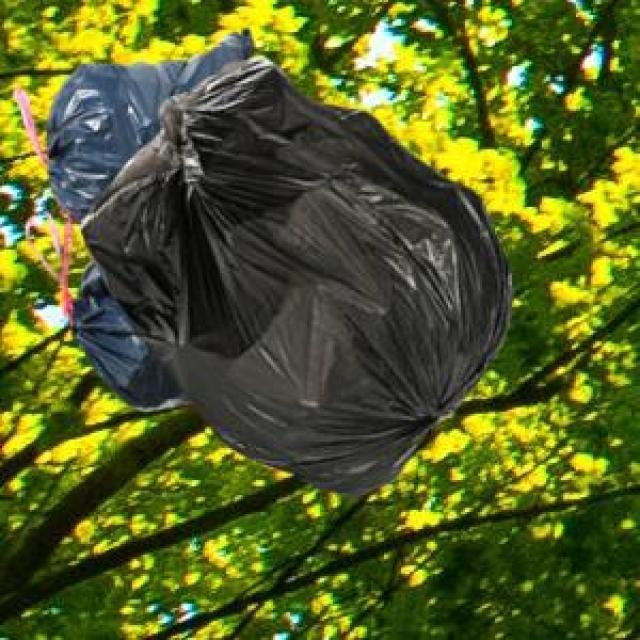waste: (48, 32, 511, 493)
